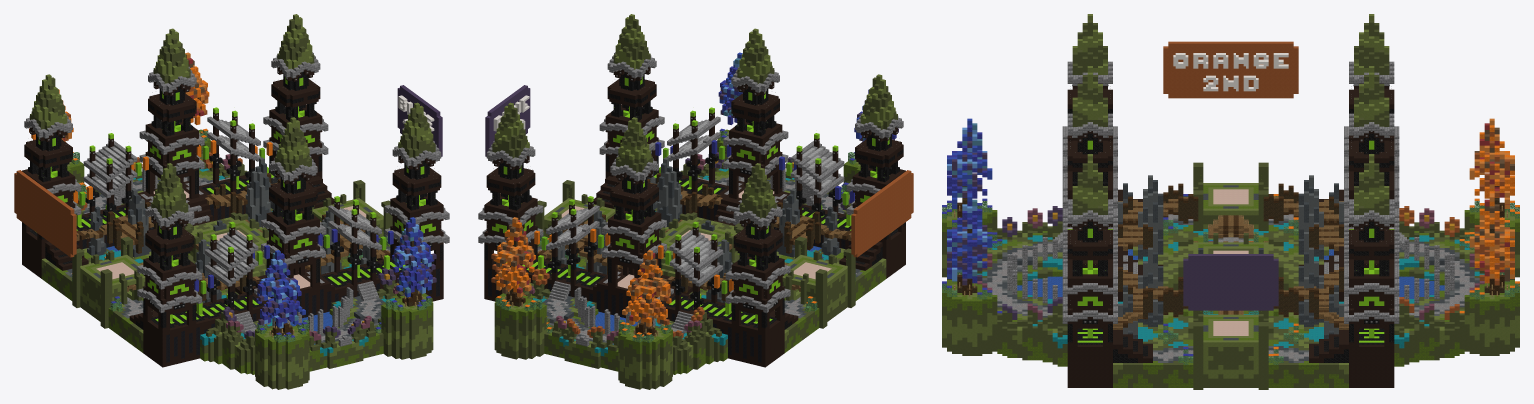
Rendered from minecraft.obj.
3 views of the same model, side by side, from view 1: azimuth 30°, elevation 25°; view 2: azimuth 150°, elevation 25°; view 3: azimuth 270°, elevation 25° (orthographic). The views are drawn at different scales.
Bounding box in the file's own units: 101 × 53 × 115.
